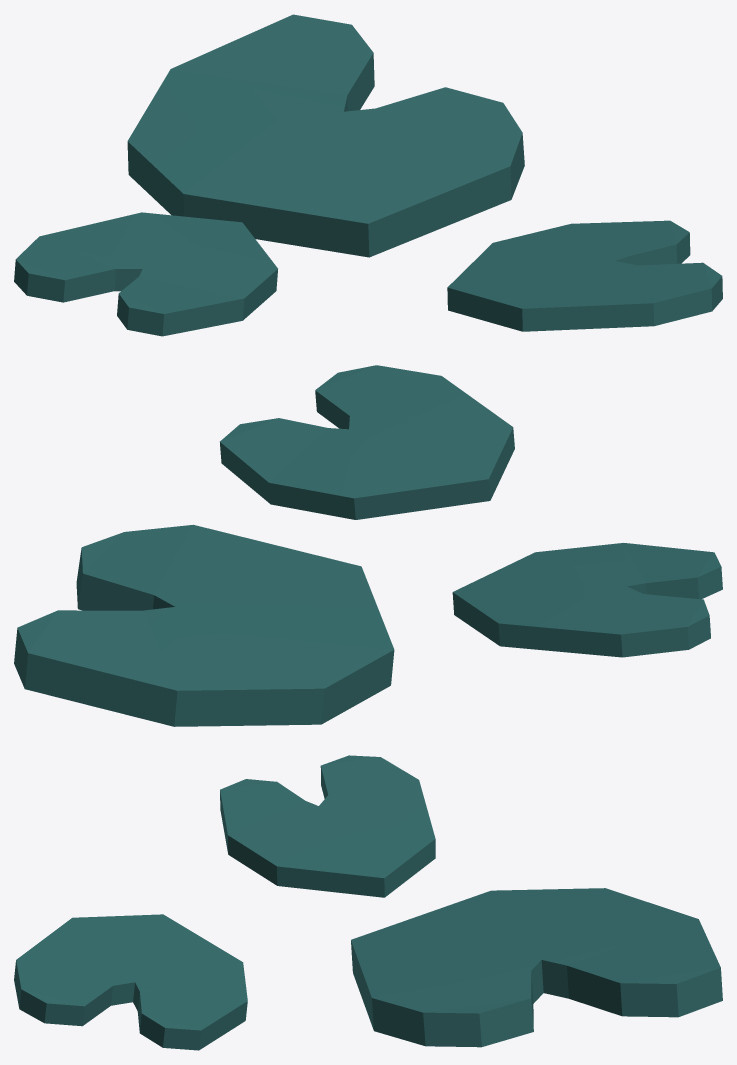
Rendered from fbFlowers3.fbx.
3 views of the same model, one above another, from view 1: azimuth 30°, elevation 25°; view 2: azimuth 150°, elevation 25°; view 3: azimuth 270°, elevation 25° (orthographic). The views are drawn at different scales.
Parts seen in each view (by area): view 1: fbPitcher1; view 2: fbPitcher1; view 3: fbPitcher1.
Part boxes in pixels (x1,y1,x2,y2): fbPitcher1: (14,14,722,336); fbPitcher1: (14,365,722,726); fbPitcher1: (14,755,722,1050).
Bounding box in the file's own units: 132 × 15.61 × 156.
